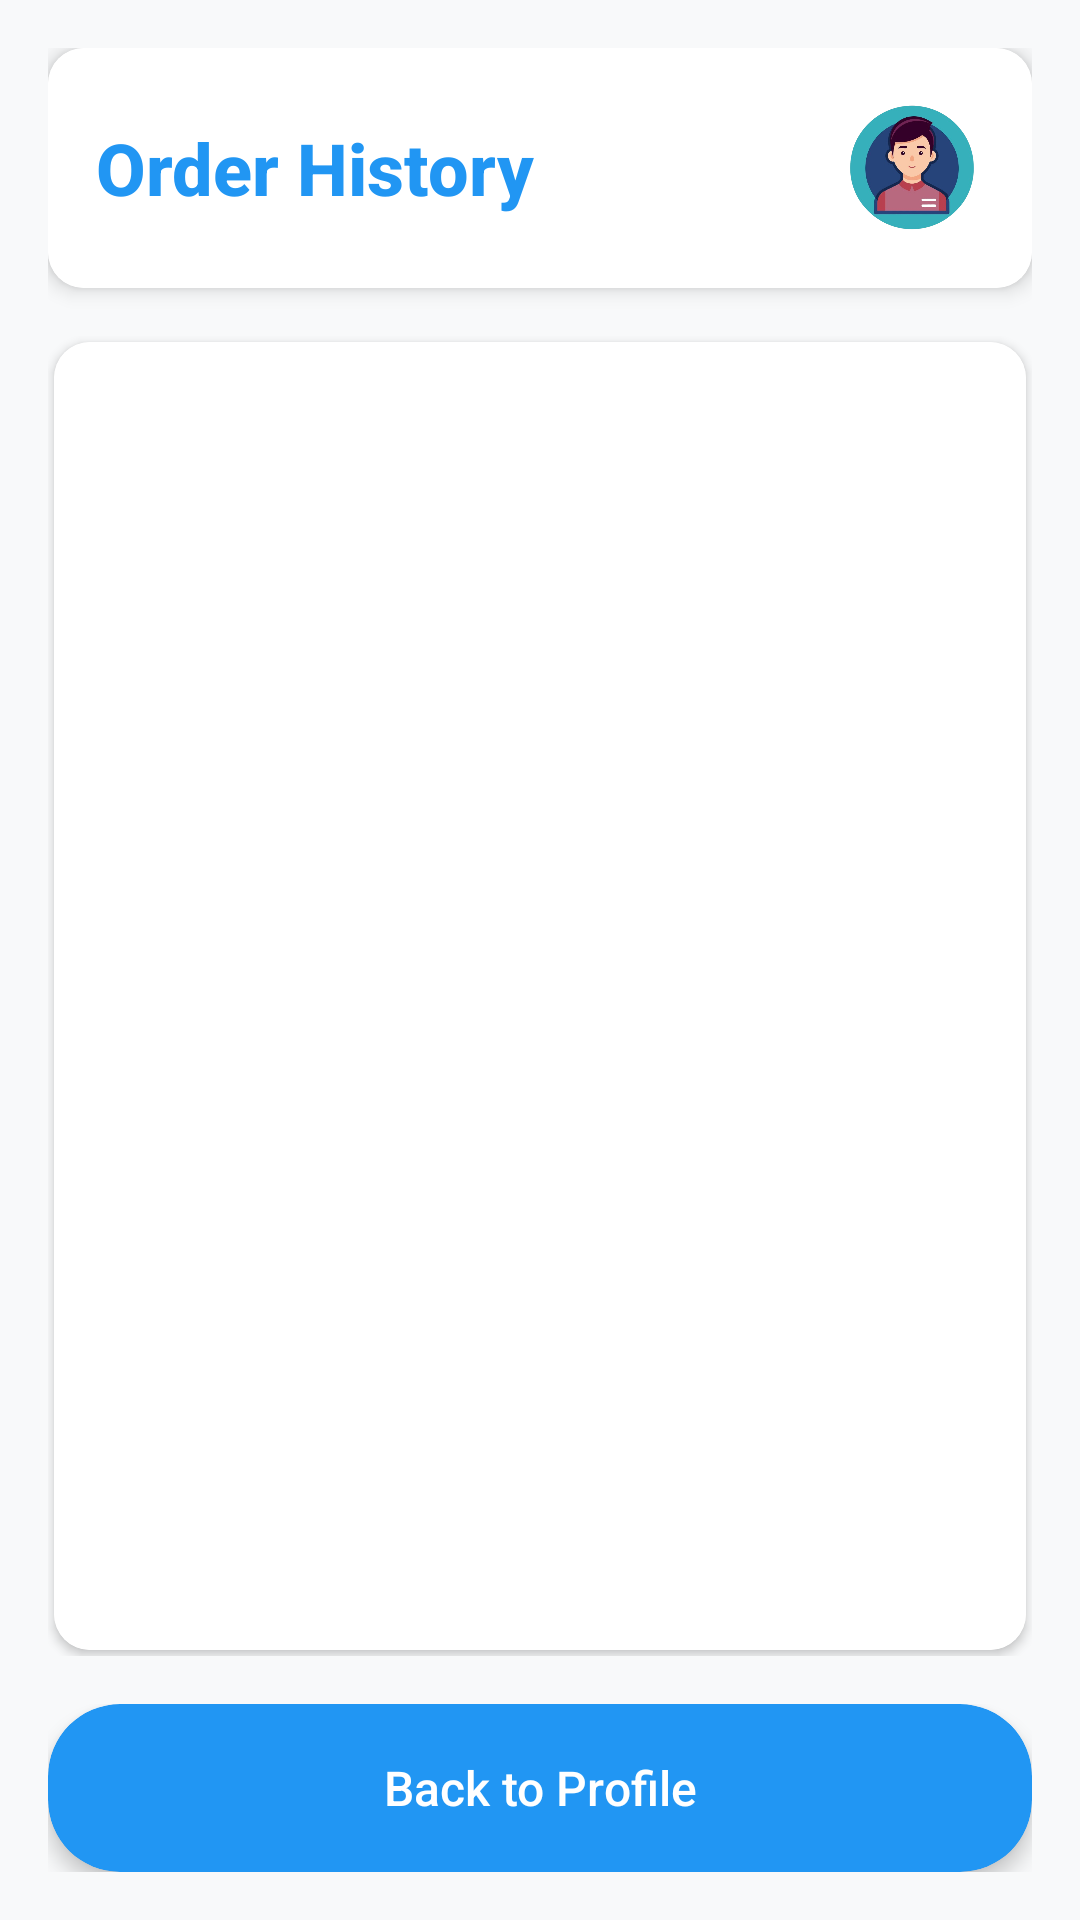

Locate icon controls on the screen. Image size 1080*1920, boxes as bbox=(x1, y1, x2, y2).
admin: bbox=(850, 105, 974, 229)
